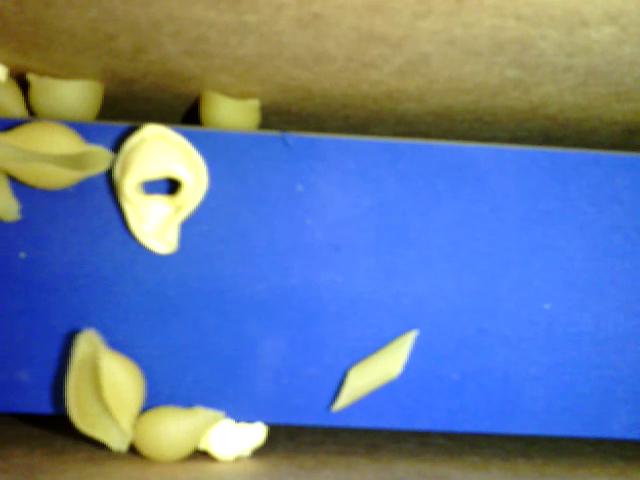penne: (328, 326, 420, 413)
shell: (66, 328, 145, 452), (1, 124, 116, 190), (130, 406, 225, 461), (27, 73, 104, 124), (199, 88, 263, 132)
tortellini: (110, 120, 210, 255)
